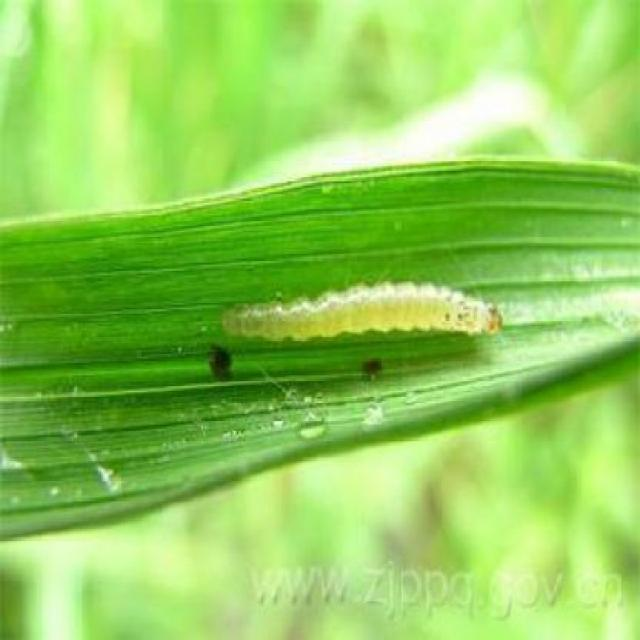leaf-folder: (198, 240, 524, 400)
